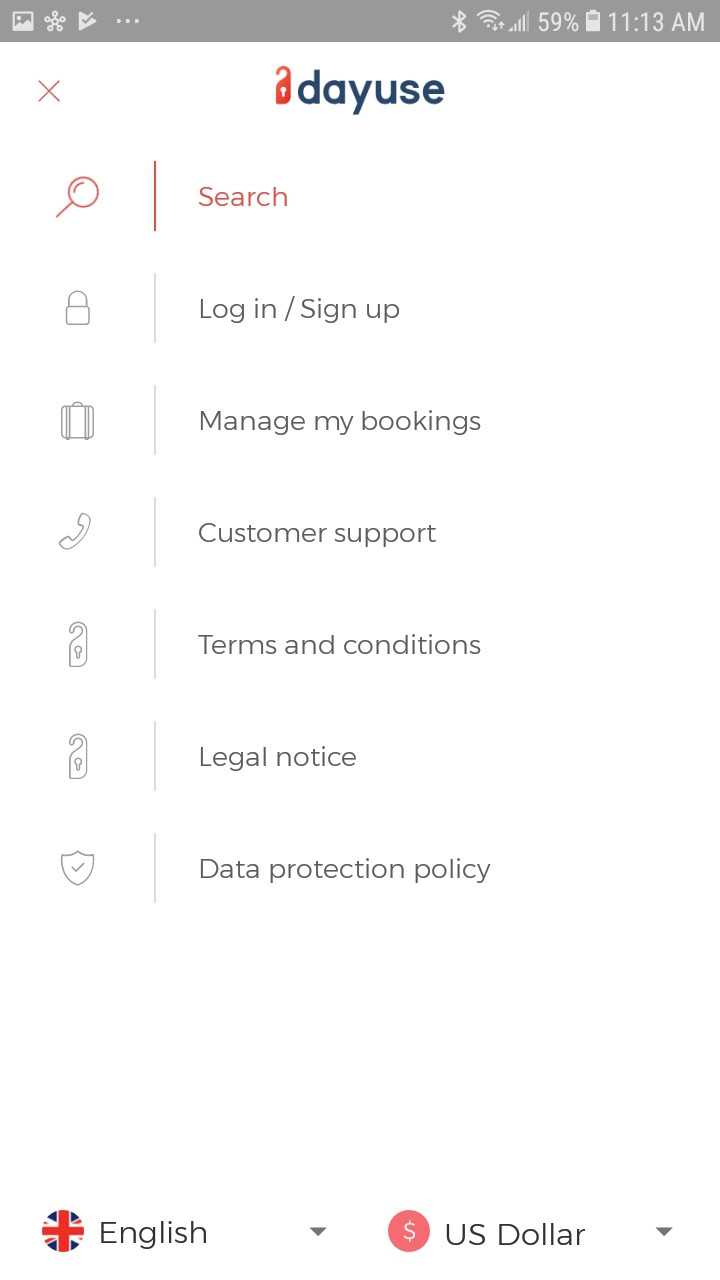Icon: (57, 176, 101, 219), (388, 1209, 431, 1253), (61, 401, 96, 441), (66, 291, 92, 327), (39, 80, 62, 103), (654, 1225, 673, 1237), (309, 1226, 329, 1237)
Image: (43, 1209, 86, 1253), (61, 850, 96, 887), (58, 513, 92, 551), (69, 621, 89, 668), (69, 733, 89, 780), (276, 67, 292, 106)
Text: (201, 409, 482, 436), (201, 858, 492, 884), (298, 70, 446, 117), (198, 634, 481, 656), (199, 522, 437, 548), (200, 297, 400, 325), (201, 745, 357, 772), (446, 1222, 586, 1246), (101, 1220, 208, 1250), (199, 187, 288, 208)
UpperTaskBar: (1, 1, 720, 43)
